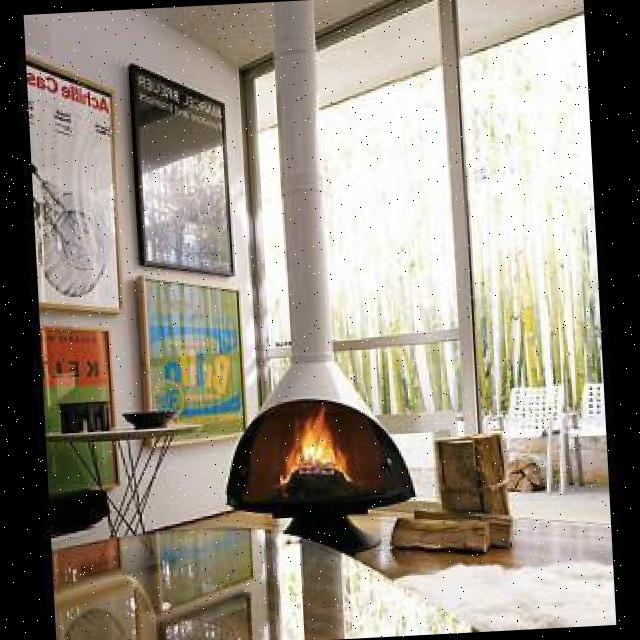fire: (277, 411, 356, 508)
